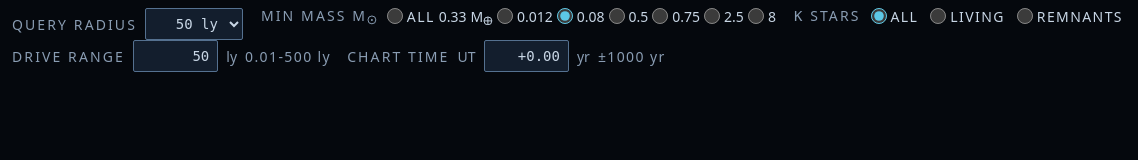
Test: ChartControls › refuses a drive range outside the steps it offers and reports nothing
Replace the text in the field labelled "DRIVE RANGE" with "900". click: (176, 56)
box: x1=133 y1=40 x2=218 y2=72
Then press Enter
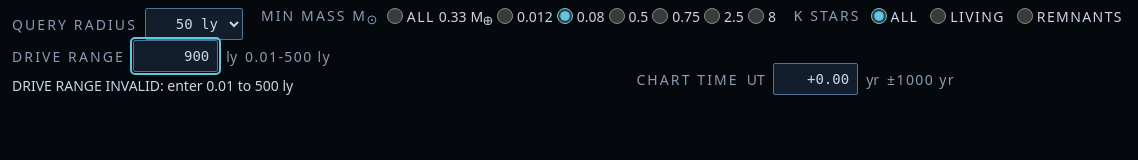
Check: the text "DRIVE RANGE INVALID: enter 0.01 to 500 ly" is shown, box x1=12 y1=76 x2=293 y2=95
